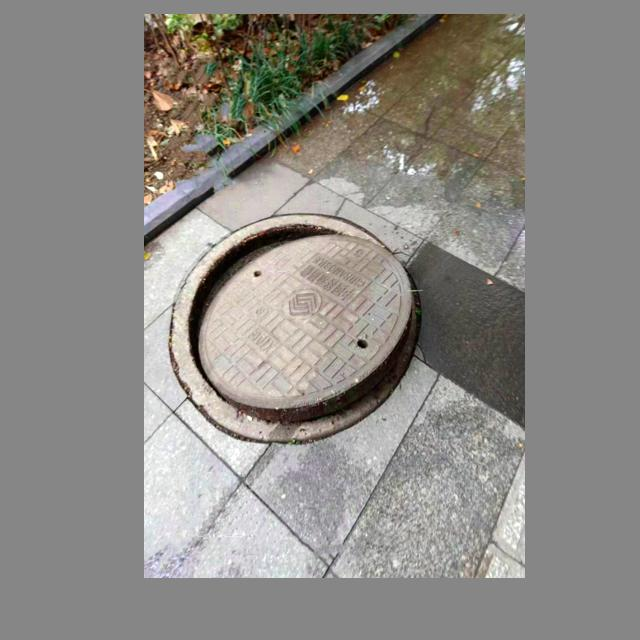uncovered: (169, 213, 421, 441)
